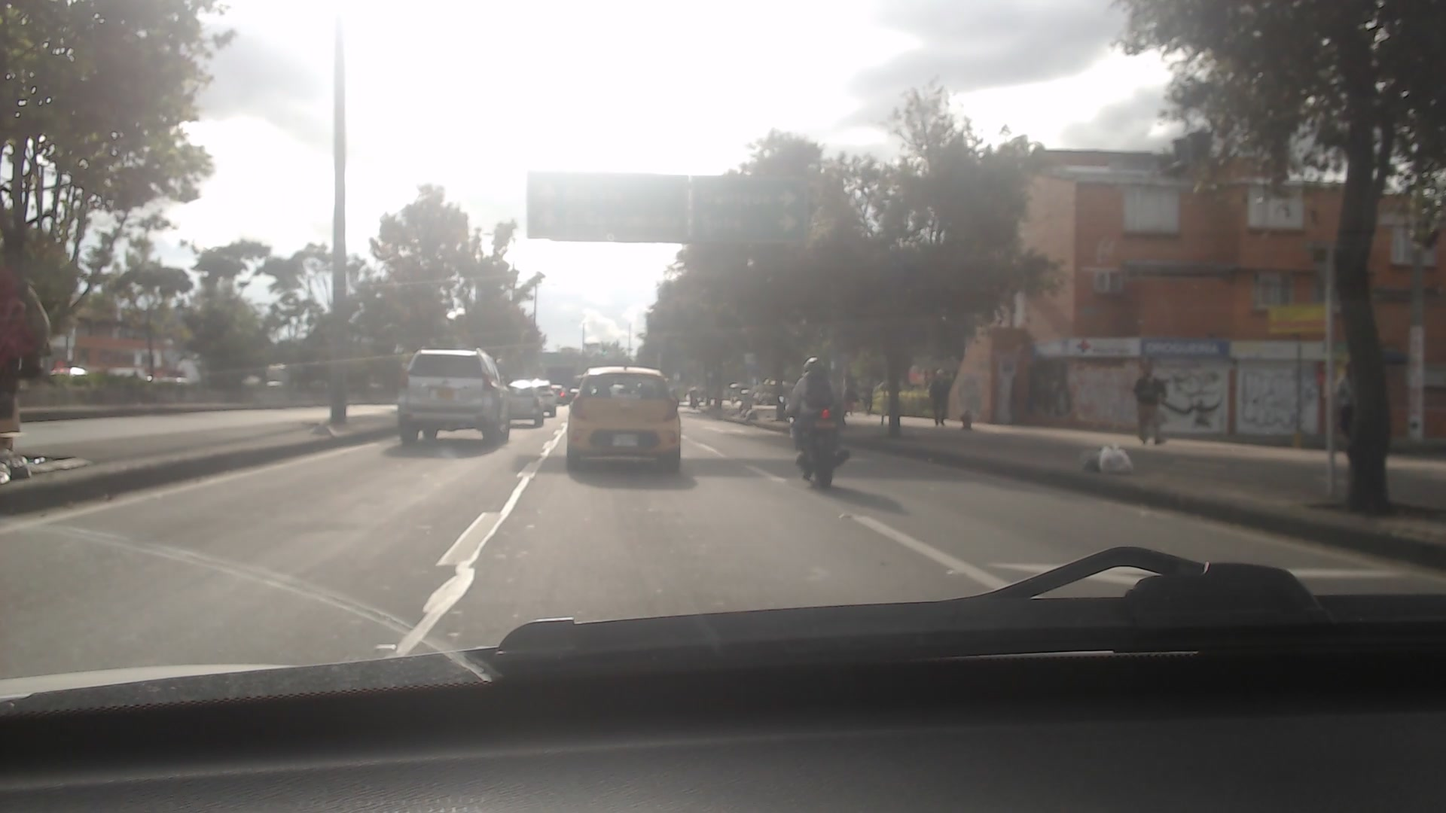car: (563, 365, 690, 475), (390, 348, 508, 440), (499, 385, 550, 426)
motorcycle: (777, 407, 850, 483)
person: (787, 353, 842, 454)
